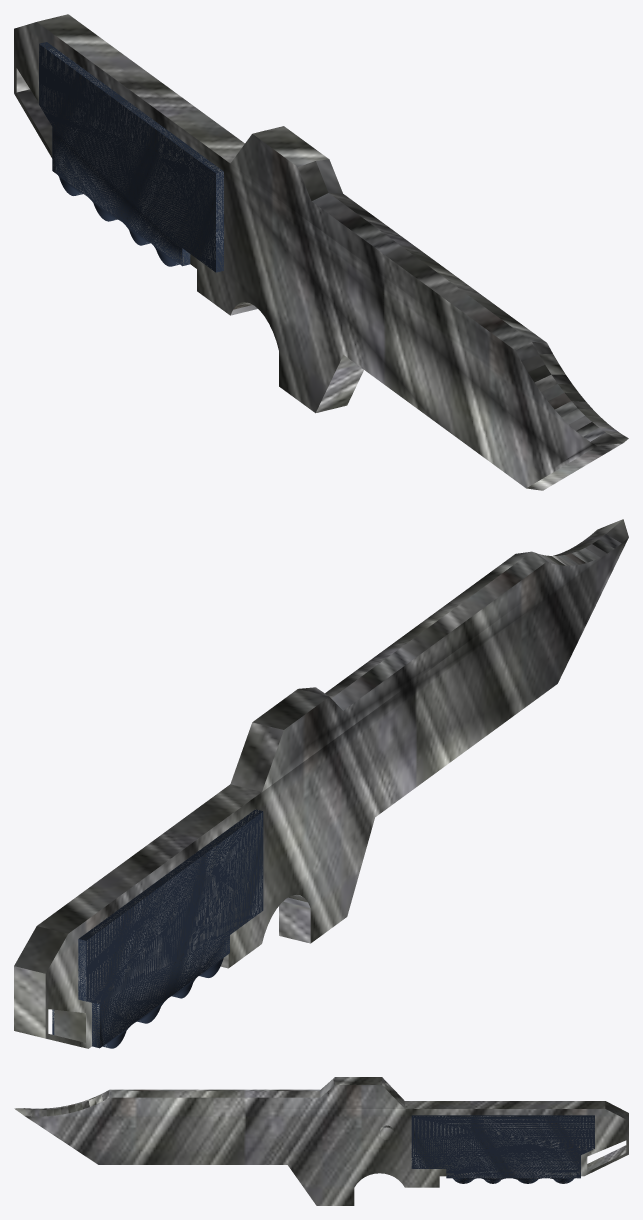
The model's file is model_scale.obj.
3 renders of one model, top to bottom at view 1: azimuth 30°, elevation 25°; view 2: azimuth 150°, elevation 25°; view 3: azimuth 270°, elevation 25°, orthographic. The views are drawn at different scales.
Visible parts, largest first — view 1: mesh1_mesh1-geometry; view 2: mesh1_mesh1-geometry; view 3: mesh1_mesh1-geometry.
Boxes of the visible parts, x1,y1,x2,y2 form: mesh1_mesh1-geometry: [14, 14, 628, 490]; mesh1_mesh1-geometry: [14, 519, 628, 1048]; mesh1_mesh1-geometry: [14, 1077, 628, 1205].
Size of the model in its own units: 0.00964 by 0.0461 by 0.209.
2 materials, 1 textured.
